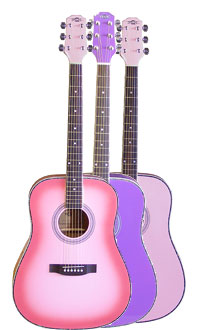guitar: (12, 15, 131, 327), (52, 12, 158, 327), (114, 14, 188, 322)
